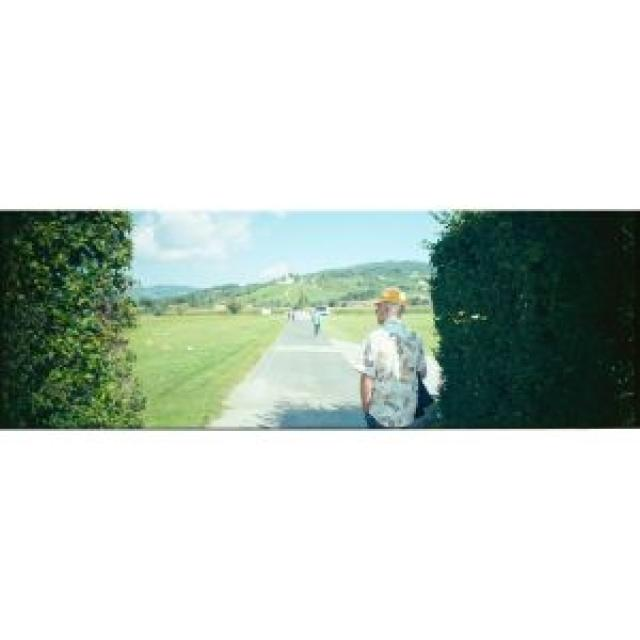nonfall: (352, 283, 441, 435)
